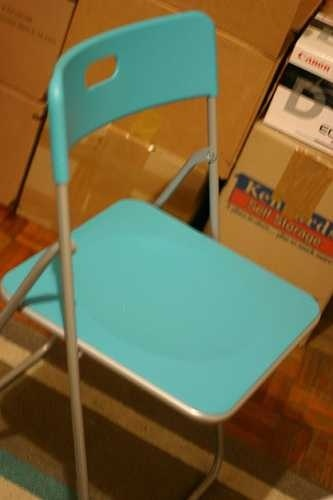obstacle: (2, 0, 331, 499)
